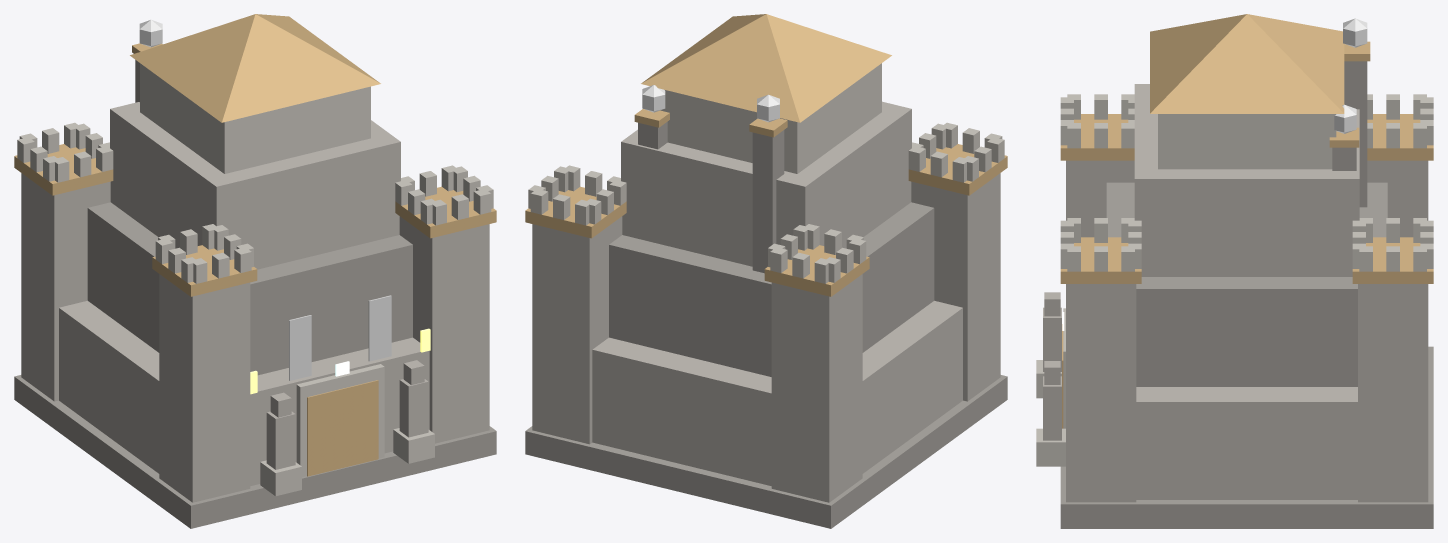
The picture shows the model from 3 angles, left to right: view 1: azimuth 30°, elevation 25°; view 2: azimuth 150°, elevation 25°; view 3: azimuth 270°, elevation 25°; orthographic projection. The views are drawn at different scales.
Parts seen in each view (by area): view 1: body; view 2: body; view 3: body.
Boxes of the visible parts, x1,y1,x2,y2 form: body: [14, 14, 496, 528]; body: [525, 14, 1007, 528]; body: [1036, 14, 1433, 528].
Size of the model in its own units: 13.8 by 17.8 by 14.7.
